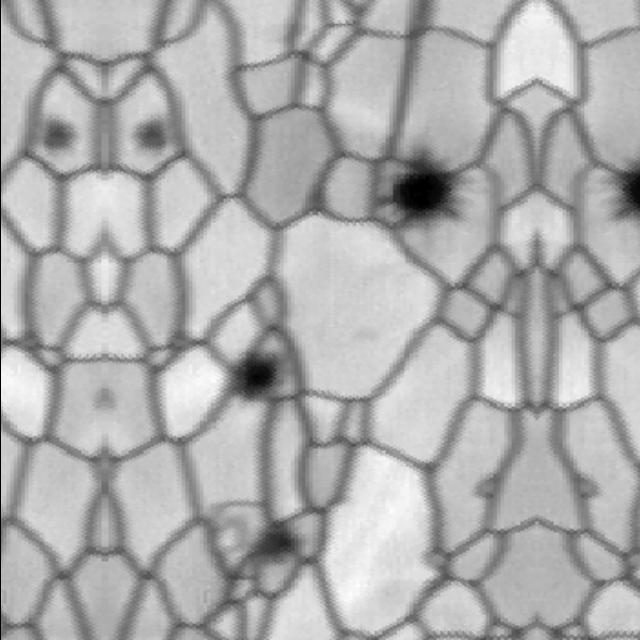good_void: (383, 137, 468, 234), (232, 348, 287, 403), (240, 513, 301, 562), (606, 146, 640, 224), (133, 117, 169, 155), (41, 117, 76, 155)
